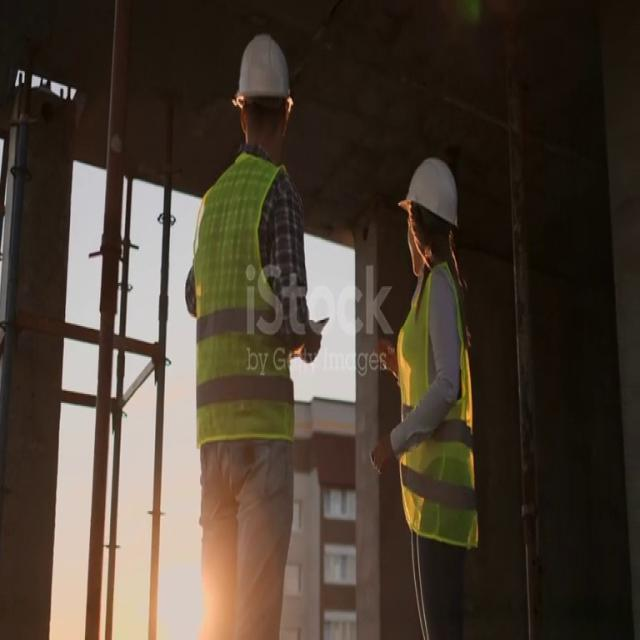capacete: (392, 146, 467, 240), (230, 32, 302, 126)
